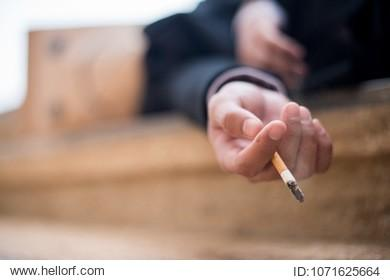Cigarette: (272, 148, 304, 202)
